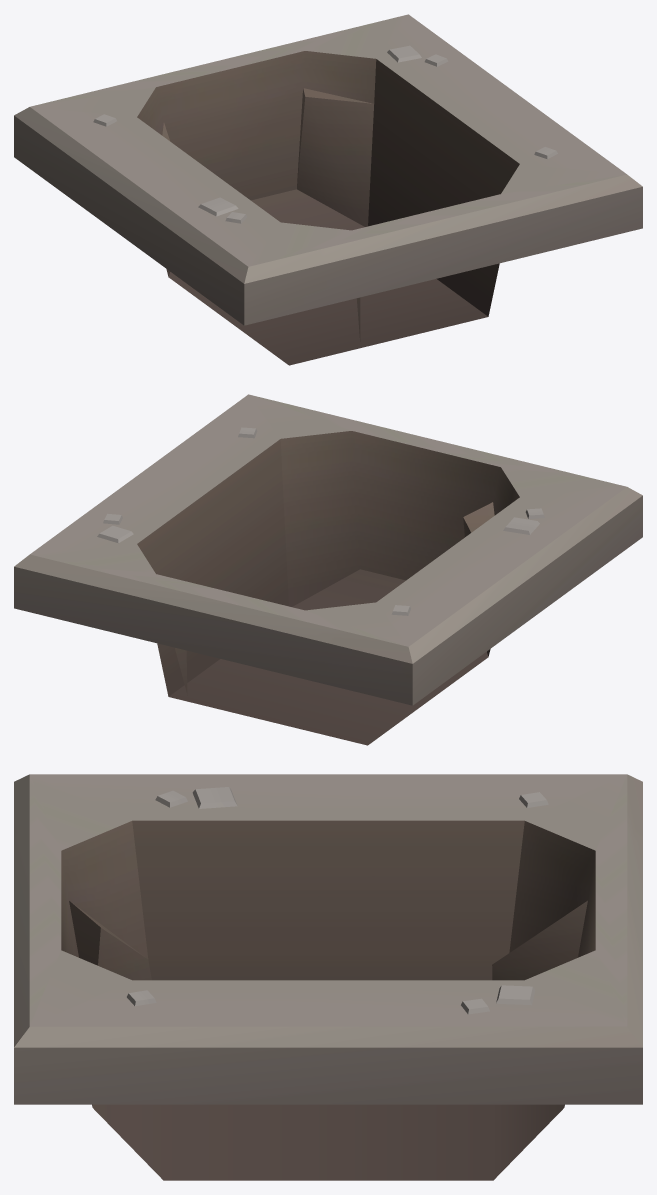
The model's file is floor-dirt-grave.glb.
3 renders of one model, top to bottom at view 1: azimuth 30°, elevation 25°; view 2: azimuth 150°, elevation 25°; view 3: azimuth 270°, elevation 25°, orthographic. The views are drawn at different scales.
Visible parts, largest first — view 1: floor_dirt_grave; view 2: floor_dirt_grave; view 3: floor_dirt_grave.
Part boxes in pixels (box(x1,y1,x2,y2)): floor_dirt_grave: box(14, 14, 642, 365); floor_dirt_grave: box(14, 394, 642, 745); floor_dirt_grave: box(14, 774, 642, 1180).
Size of the model in its own units: 4 by 1.53 by 4.
1 material, 1 textured.
